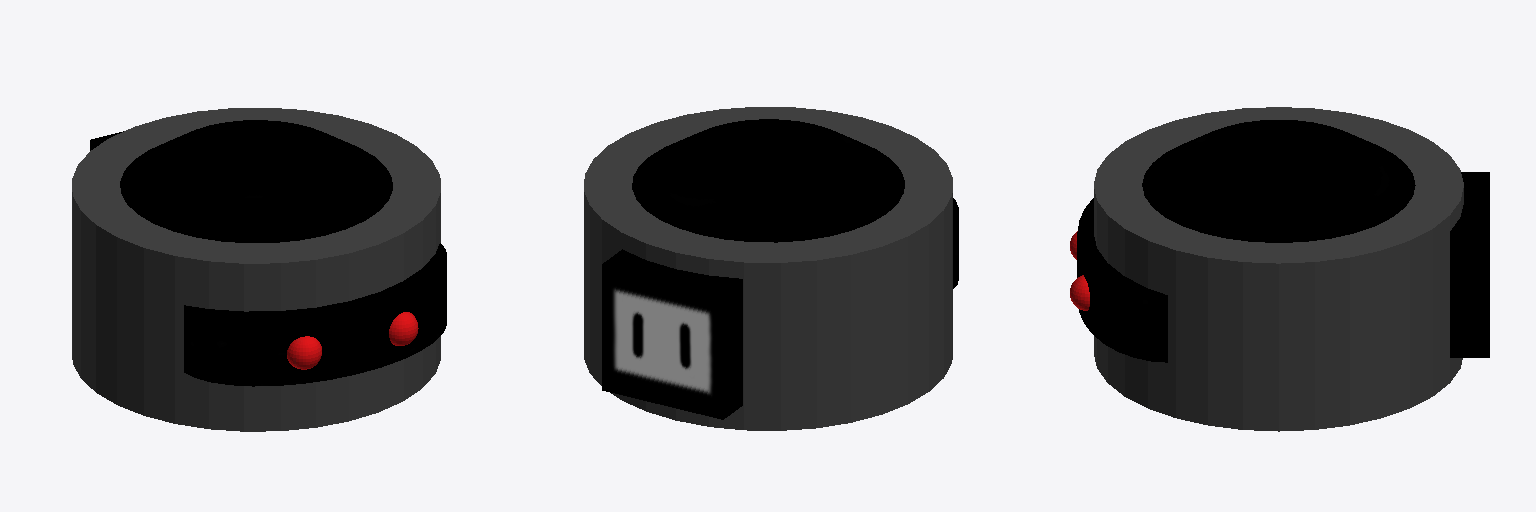
The picture shows the model from 3 angles: view 1: azimuth 30°, elevation 25°; view 2: azimuth 150°, elevation 25°; view 3: azimuth 270°, elevation 25°; orthographic projection.
Visible parts, largest first — view 1: 立方体; view 2: 立方体; view 3: 立方体.
Part boxes in pixels (bbox=[...]): 立方体: bbox=[72, 108, 446, 431]; 立方体: bbox=[584, 107, 958, 430]; 立方体: bbox=[1070, 107, 1489, 431].
Bounding box in the file's own units: 2 × 1.16 × 2.27.
Materials: 1 (1 with a texture image).